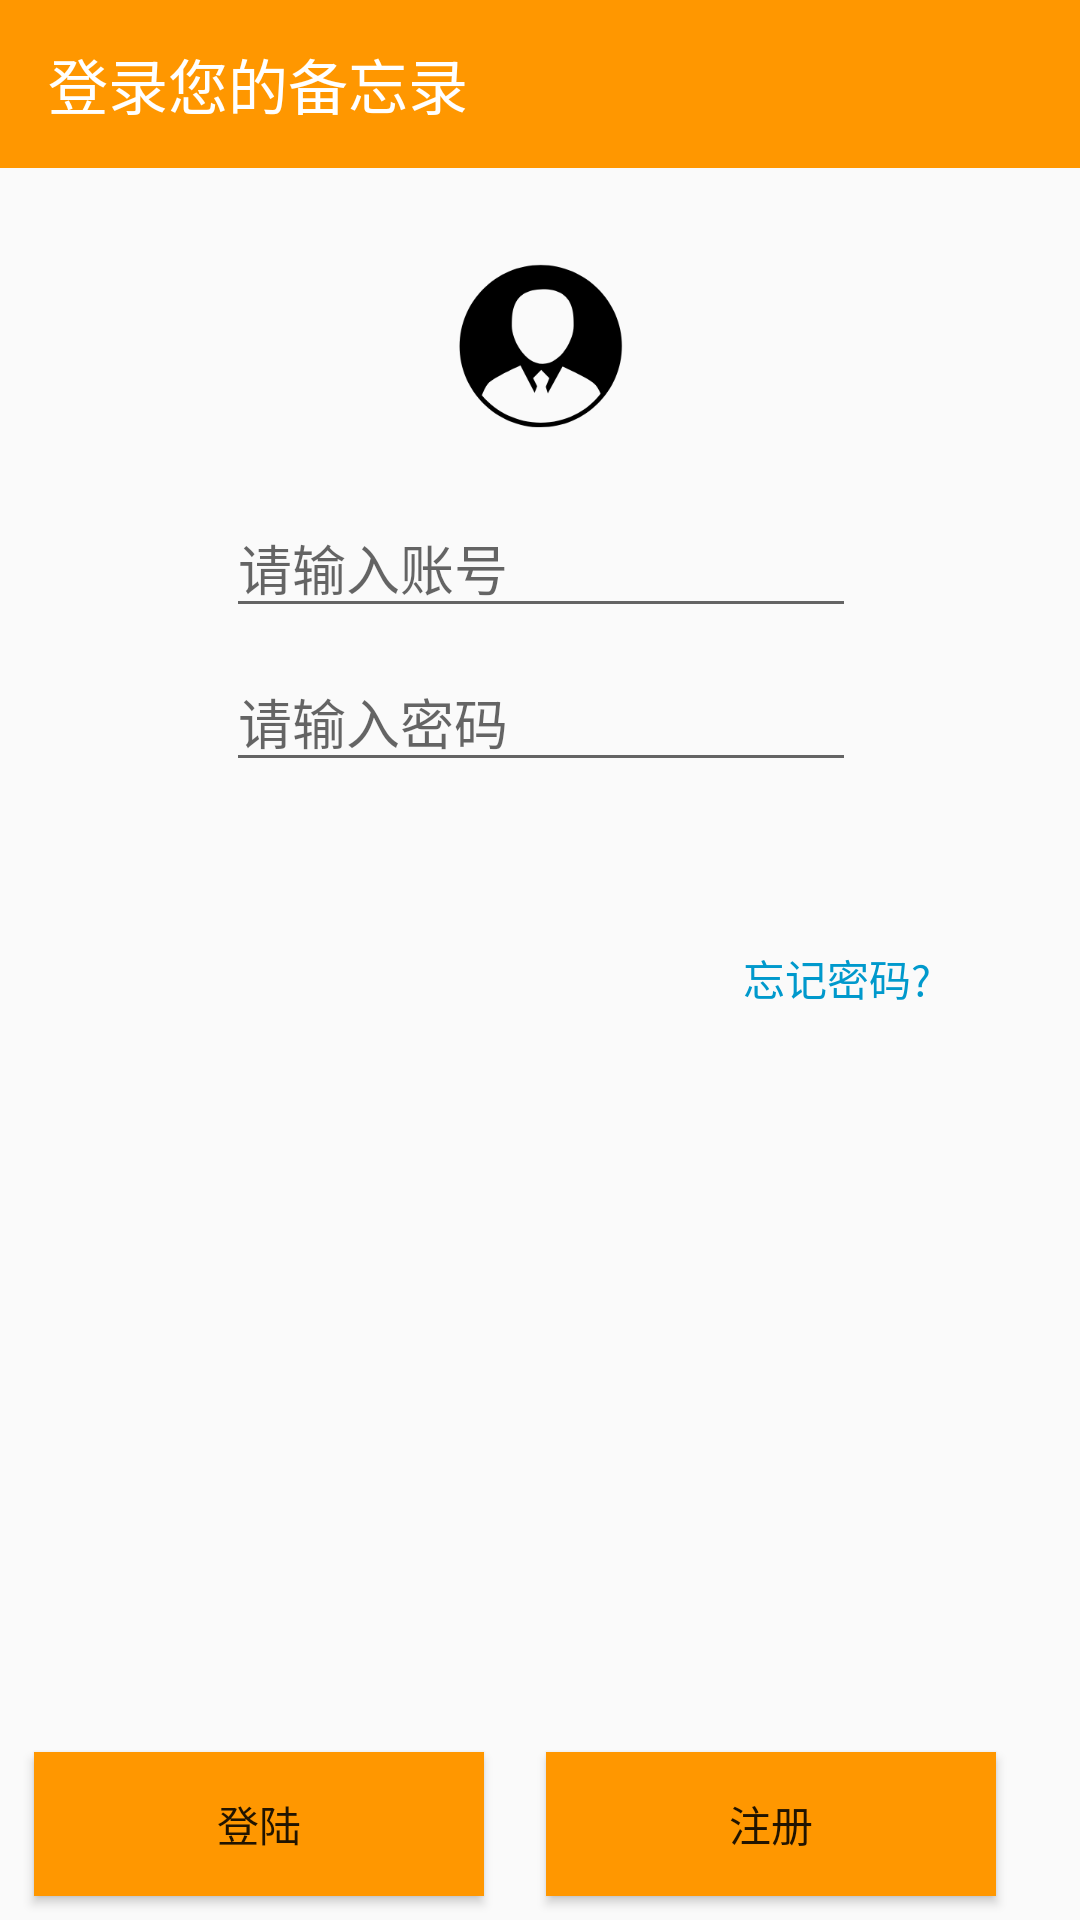

Screen size 1080 x 1920. Icon name, then its center in pixels as [x,y]:
login head: [540,346]
